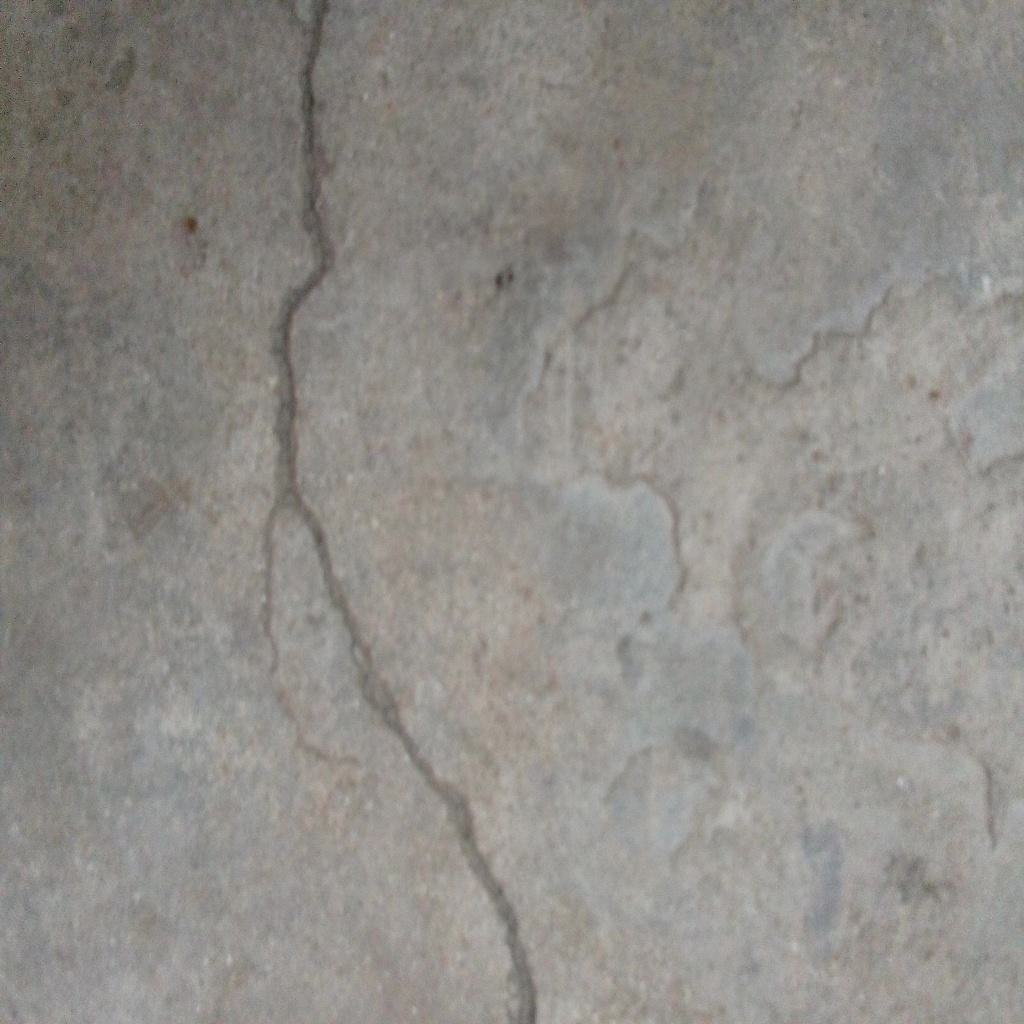Spalling: (259, 1, 537, 1024)
